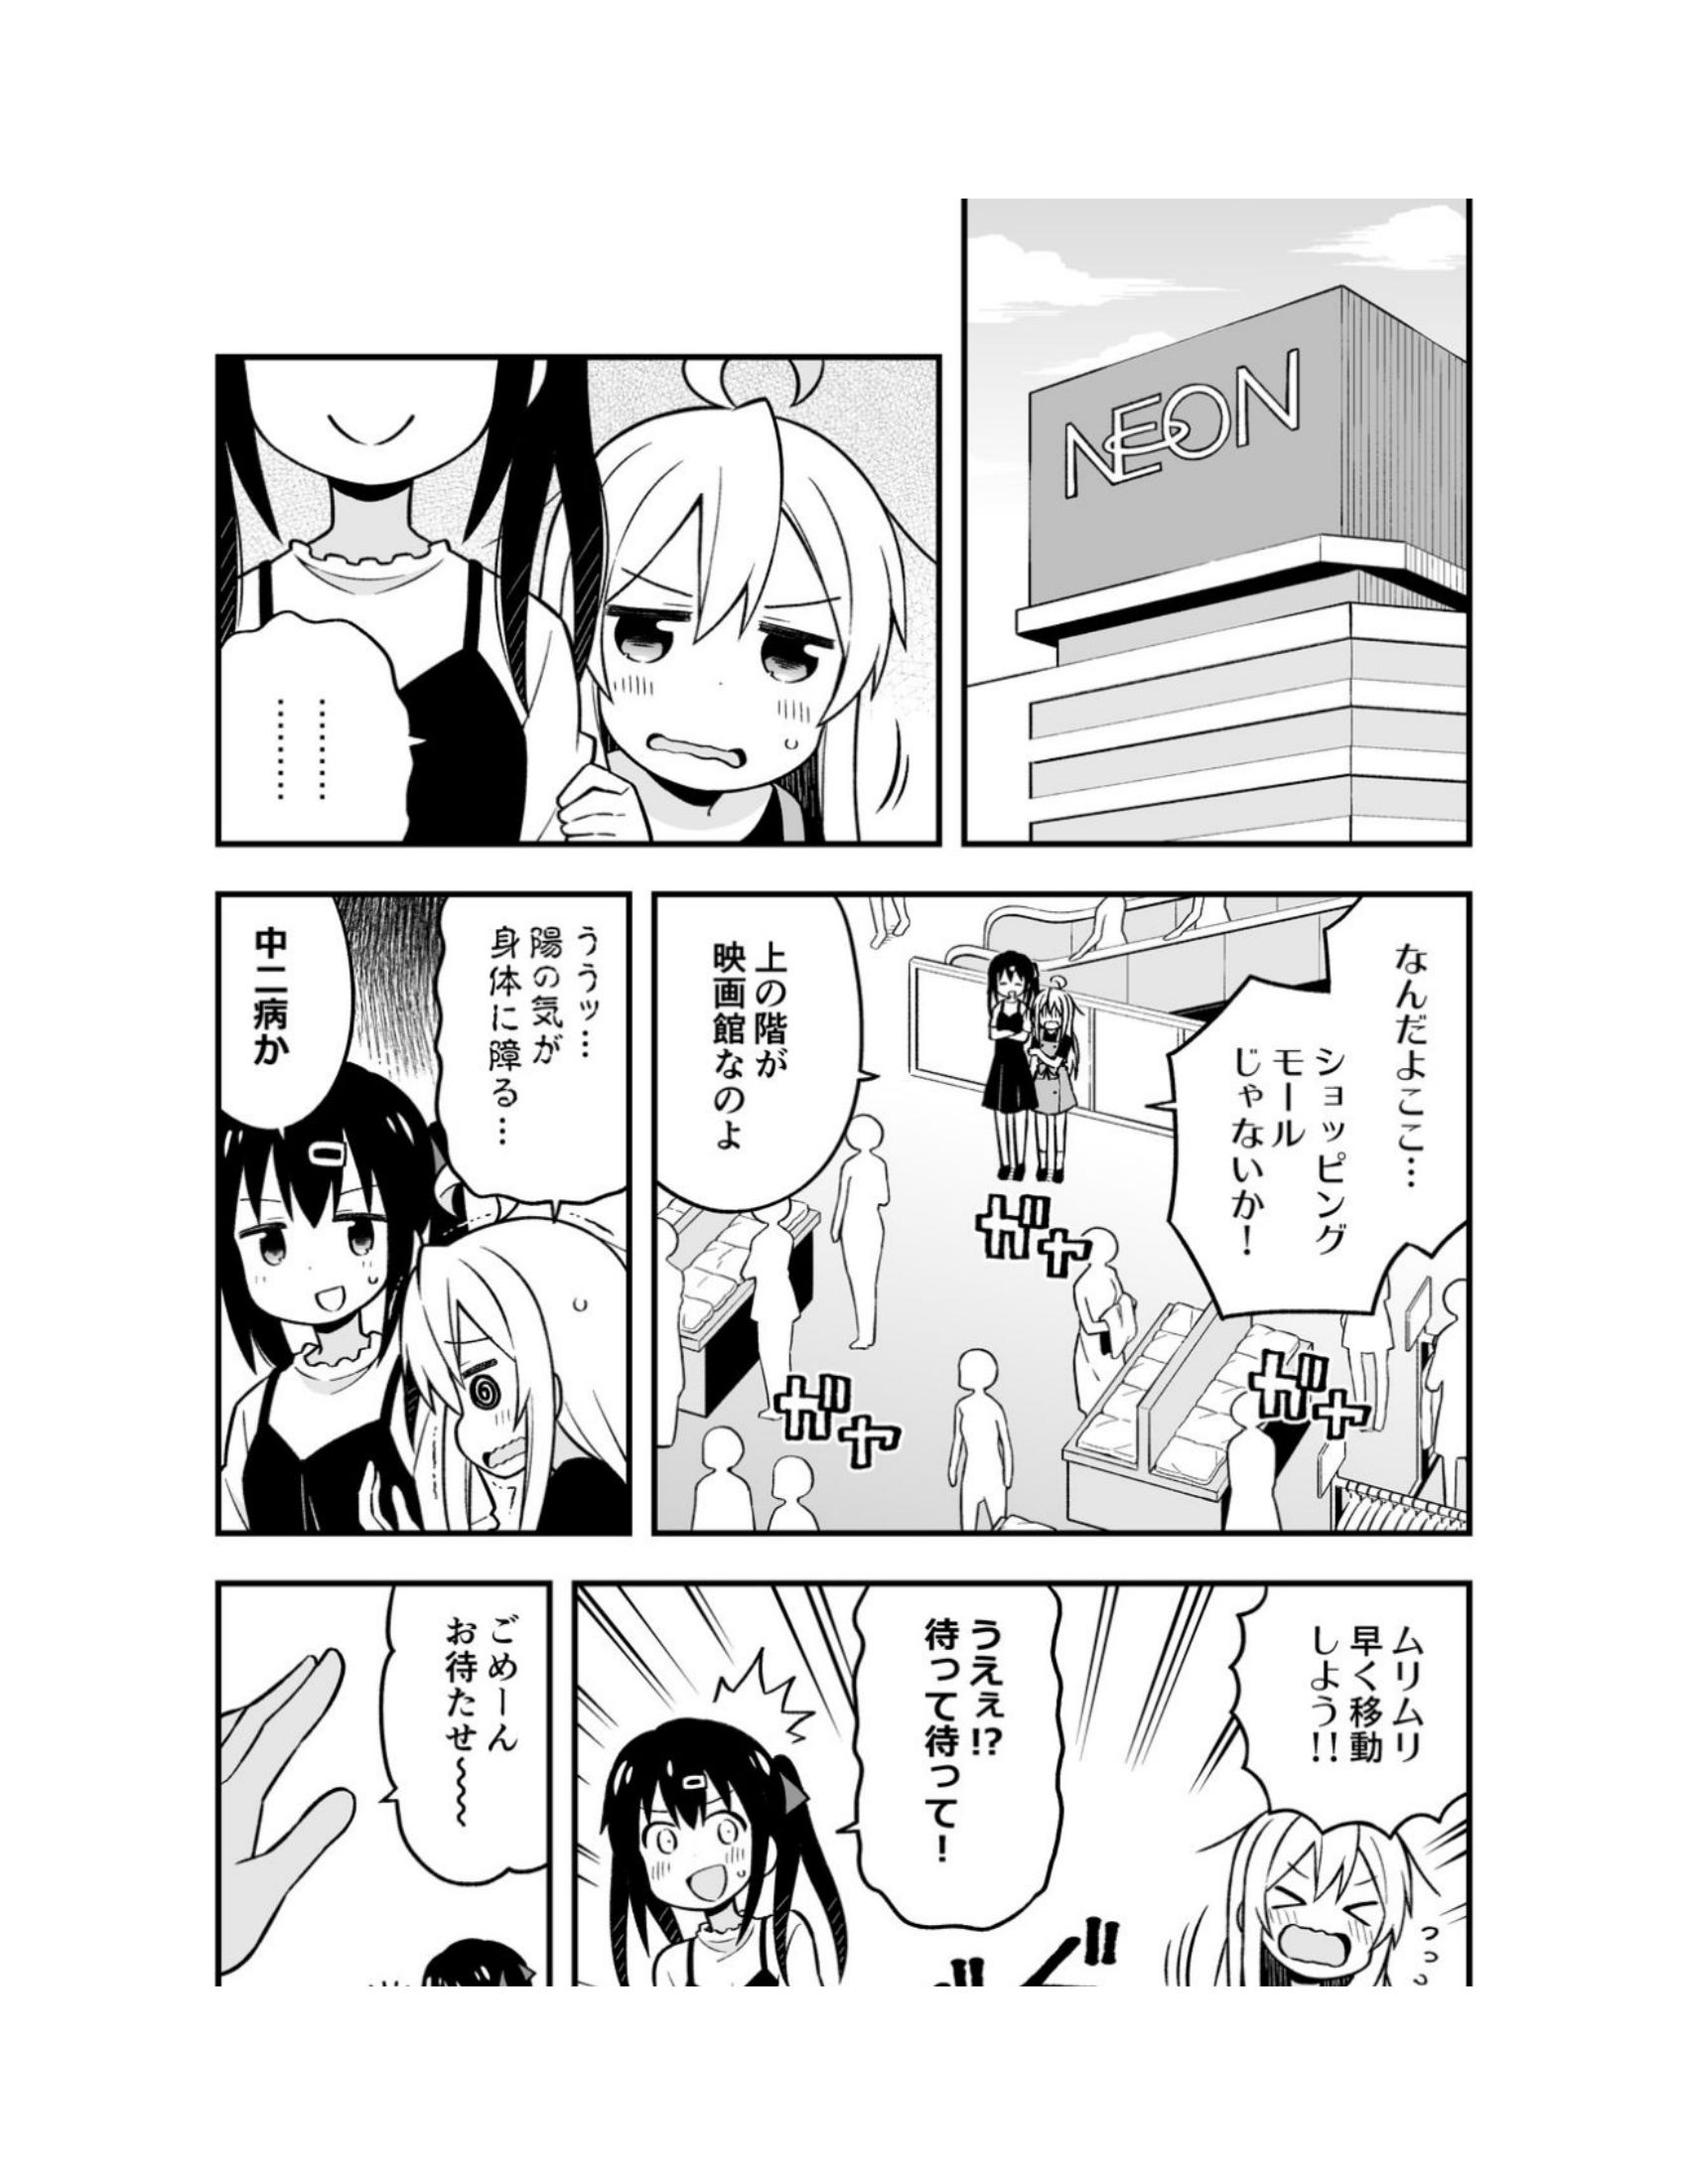a: (1190, 895, 1489, 1360), (342, 1562, 605, 1899), (819, 1574, 1069, 1925), (654, 876, 867, 1239), (413, 858, 635, 1205), (1254, 1555, 1489, 1840), (215, 899, 379, 1165)
